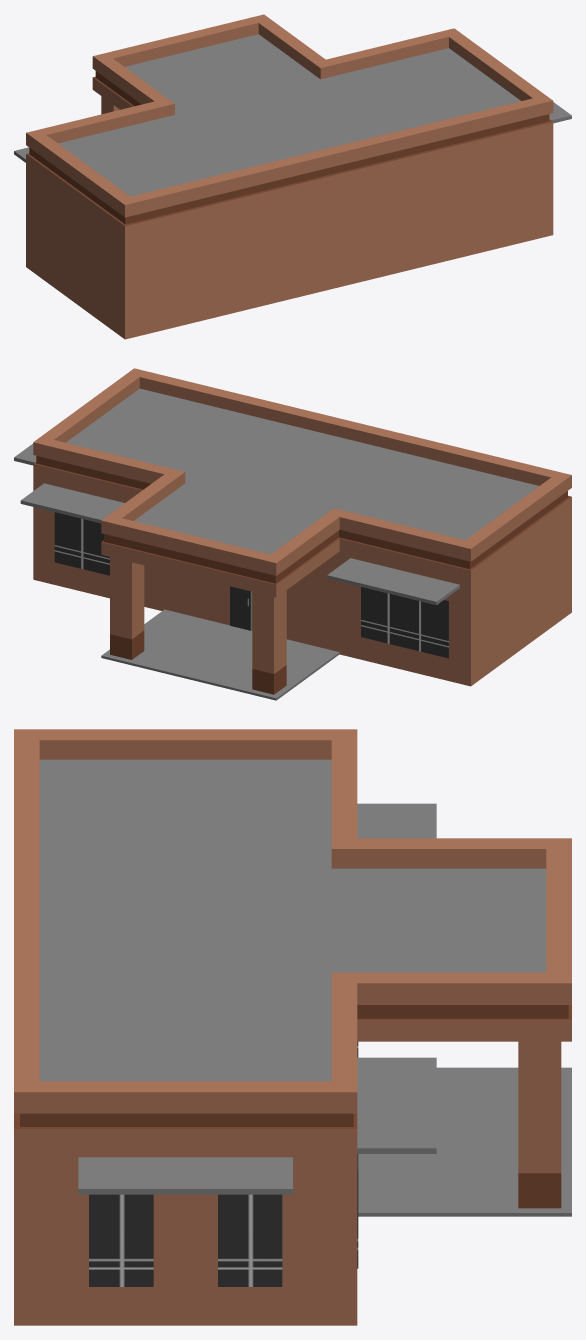
File: spw-urban-bldg-small-03.glb
3 views of the same model, one above another, from view 1: azimuth 30°, elevation 25°; view 2: azimuth 150°, elevation 25°; view 3: azimuth 270°, elevation 25° (orthographic). The views are drawn at different scales.
Visible parts, largest first — view 1: SPW_Urban_Bldg_Small_03; view 2: SPW_Urban_Bldg_Small_03; view 3: SPW_Urban_Bldg_Small_03.
Part boxes in pixels (x1,y1,x2,y2): SPW_Urban_Bldg_Small_03: [14, 14, 571, 339]; SPW_Urban_Bldg_Small_03: [14, 368, 571, 700]; SPW_Urban_Bldg_Small_03: [14, 729, 571, 1325].
Bounding box in the file's own units: 21.74 × 6 × 13.
1 material, 1 textured.
